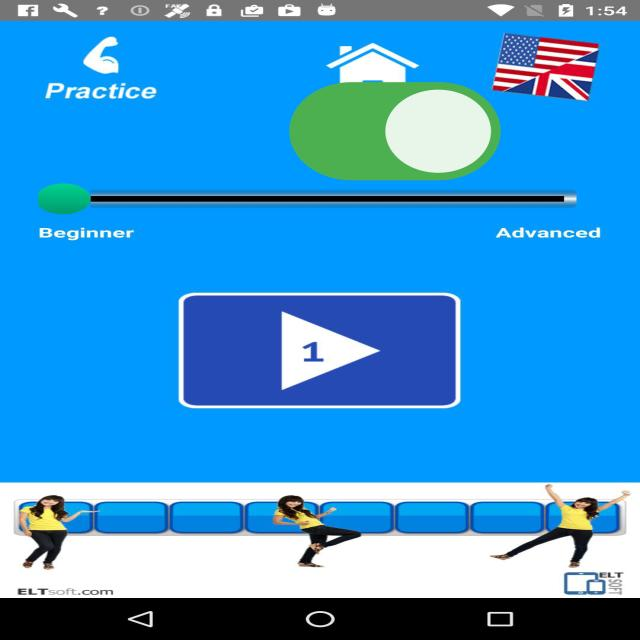social proof: (280, 44, 510, 226)
